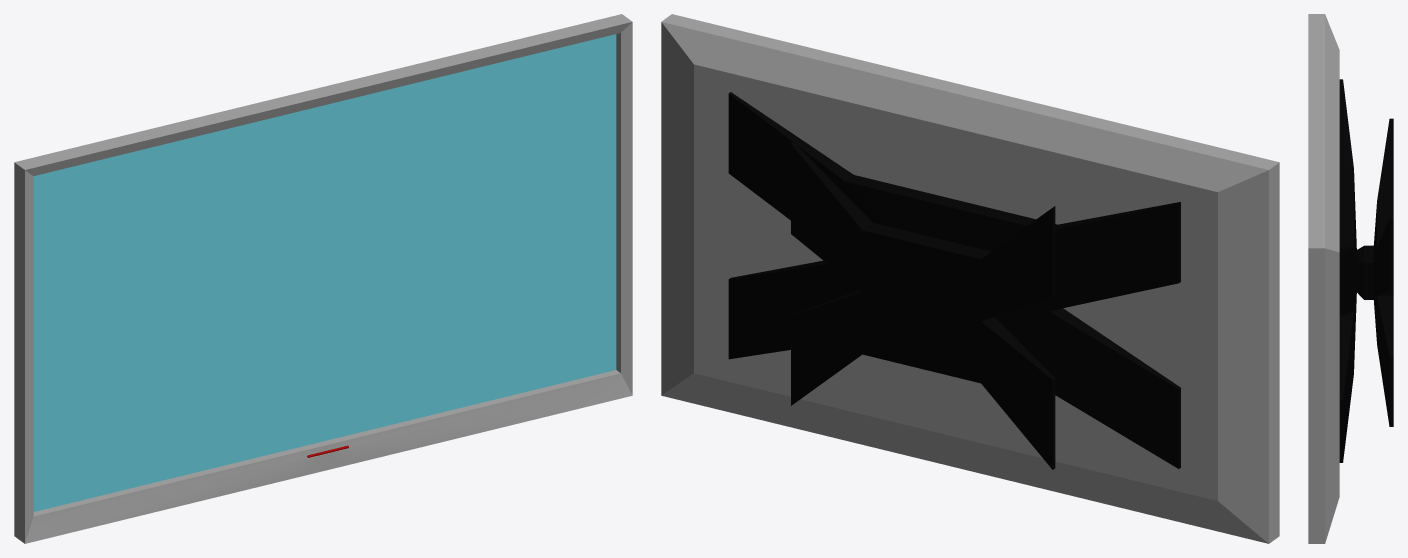
The picture shows the model from 3 angles, left to right: view 1: azimuth 30°, elevation 25°; view 2: azimuth 150°, elevation 25°; view 3: azimuth 270°, elevation 25°; orthographic projection. The views are drawn at different scales.
Parts seen in each view (by area): view 1: pCube24; view 2: pCube24; view 3: pCube24.
Boxes of the visible parts, x1=… form: pCube24: x1=14, y1=14, x2=632, y2=543; pCube24: x1=661, y1=14, x2=1279, y2=543; pCube24: x1=1308, y1=14, x2=1393, y2=543.
Bounding box in the file's own units: 3.55 × 2.09 × 0.5467.
